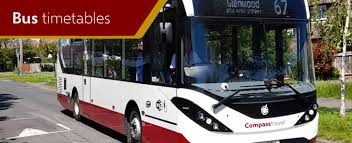bus: (54, 1, 321, 142)
